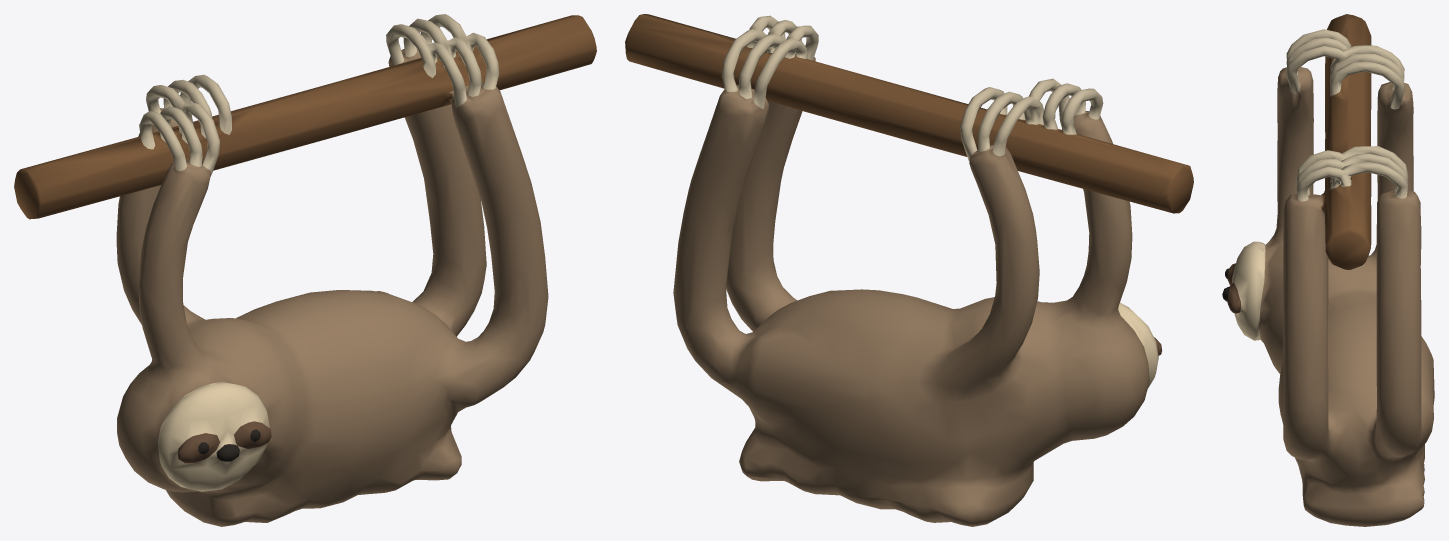
The model's file is NEW_RECOVERY_130_LOD2.glb.
The picture shows the model from 3 angles, left to right: view 1: azimuth 30°, elevation 25°; view 2: azimuth 150°, elevation 25°; view 3: azimuth 270°, elevation 25°; orthographic projection. The views are drawn at different scales.
Visible parts, largest first — view 1: whole_sloth_supported; view 2: whole_sloth_supported; view 3: whole_sloth_supported.
Boxes of the visible parts, x1,y1,x2,y2 form: whole_sloth_supported: [14, 14, 596, 526]; whole_sloth_supported: [625, 14, 1193, 526]; whole_sloth_supported: [1222, 14, 1434, 526].
Bounding box in the file's own units: 3.25 × 2.45 × 1.25.
